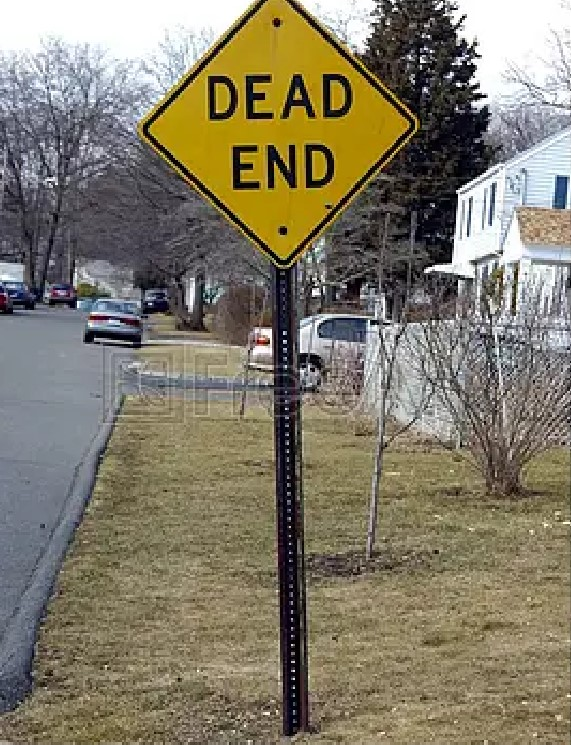Deadend: (140, 2, 419, 272)
